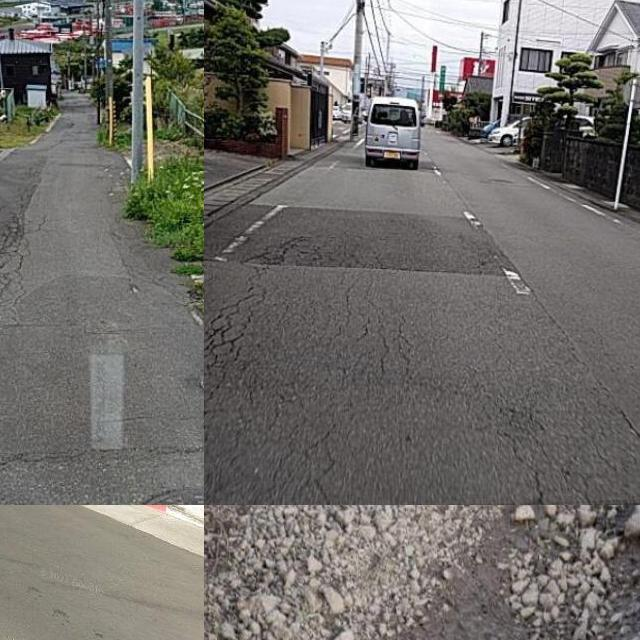Pinggir: (357, 505, 640, 640)
Retak Buaya: (204, 289, 273, 448)
Sambungan: (0, 505, 204, 640), (204, 202, 515, 279), (0, 151, 59, 265)
